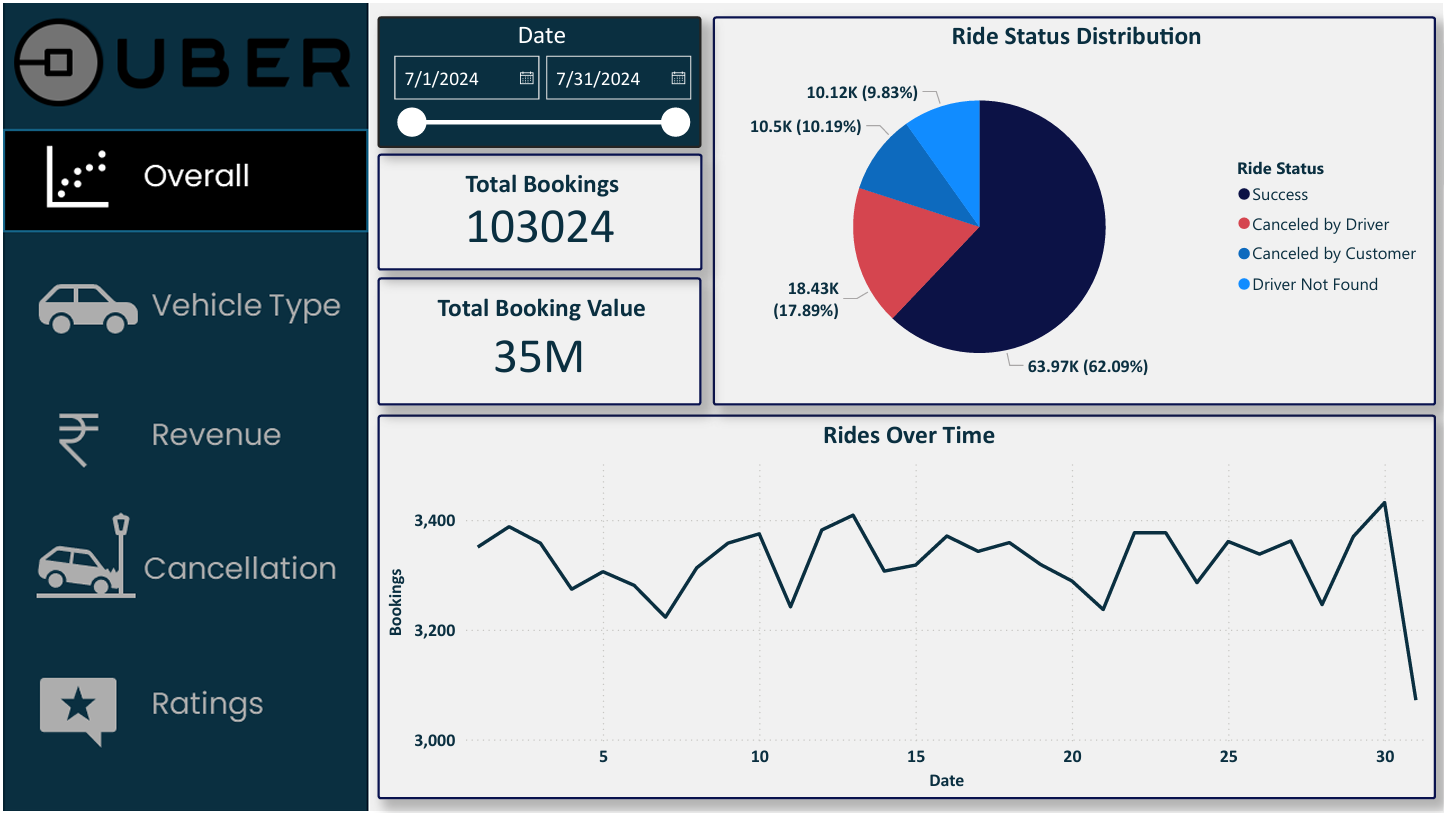

The page's visual inventory and layout, read from the dashboard file:
{"tool":"powerbi","page":{"name":"Ovarall","canvas":[1280,720],"ordinal":0},"visuals":[{"type":"lineChart","title":"Rides Over Time","fields":{"Category":["Bookings.Date.Variation.Date Hierarchy.Day"],"Y":["CountNonNull(Bookings.Booking_ID)"]},"box":[332.1,365,941.3,341.7],"z":0},{"type":"actionButton","box":[0,219.6,322.1,89.3],"z":1000},{"type":"actionButton","box":[0,340.2,322.1,89.3],"z":2000},{"type":"actionButton","box":[0,446.4,322.1,89.3],"z":3000},{"type":"actionButton","box":[0,579.1,322.1,89.3],"z":4000},{"type":"pieChart","title":"Ride Status Distribution","fields":{"Category":["Bookings.Booking_Status"],"Y":["CountNonNull(Bookings.Booking_ID)"]},"box":[629.8,11,643.6,345.8],"z":5000},{"type":"slicer","title":"Date ","fields":{"Values":["Bookings.Date"]},"box":[332.1,11,288.2,116.6],"z":6000},{"type":"card","title":"Total Bookings","fields":{"Values":["CountNonNull(Bookings.Booking_ID)"]},"box":[332.2,132.6,288.5,104.5],"z":7000},{"type":"card","title":"Total Booking Value","fields":{"Values":["Sum(Bookings.Booking_Value)"]},"box":[332.1,242.9,288.2,113.9],"z":8000}]}

Visuals, with their boxes in screenshot pixels (x1, y1, x2, y2), scaled from the page's 1280x720 canvas onto the 1446x813 screenshot:
"Rides Over Time" lineChart: l=375, t=412, r=1439, b=798
actionButton: l=0, t=248, r=364, b=349
actionButton: l=0, t=384, r=364, b=485
actionButton: l=0, t=504, r=364, b=605
actionButton: l=0, t=654, r=364, b=755
"Ride Status Distribution" pieChart: l=711, t=12, r=1439, b=403
"Date " slicer: l=375, t=12, r=701, b=144
"Total Bookings" card: l=375, t=150, r=701, b=268
"Total Booking Value" card: l=375, t=274, r=701, b=403
